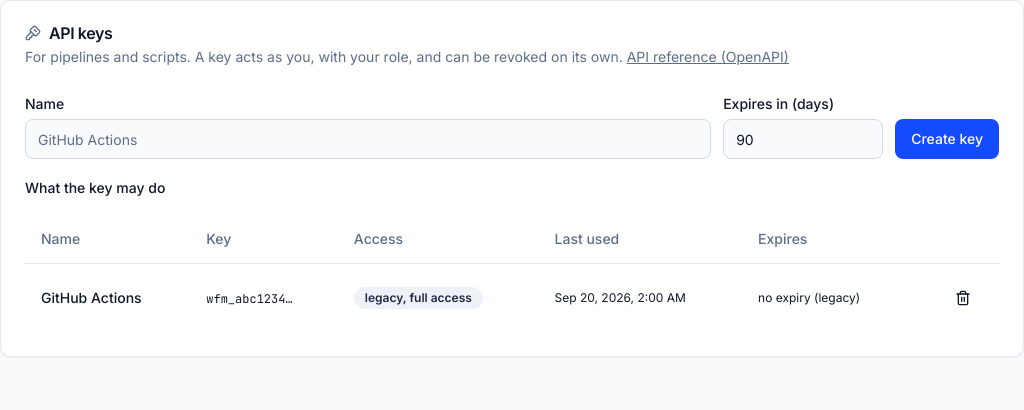
ApiKeysCard › refuses a nameless key before asking the server
The image size is (1024, 410).
expect the text "GitHub Actions" is shown: met, box [25,263,190,332]
Click the button "Create key".
click(947, 139)  # box [895,119,999,159]
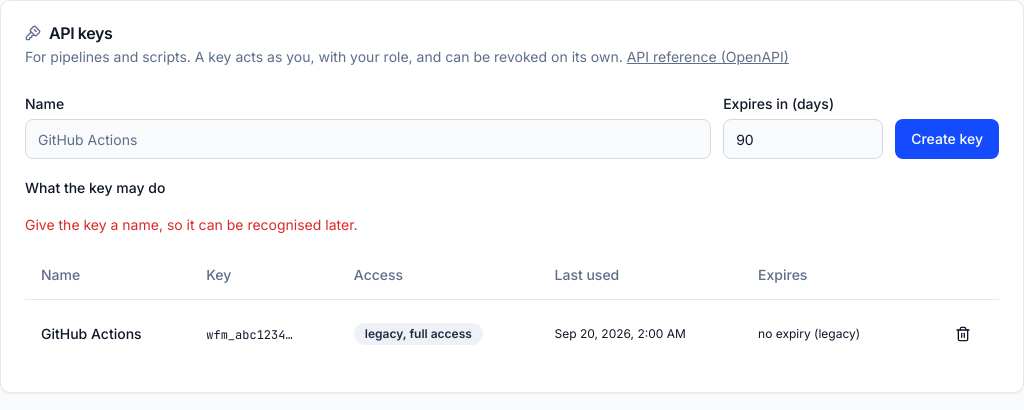
expect the text "Give the key a name, so it can be recognised later." is shown: met, box [25,216,358,233]
